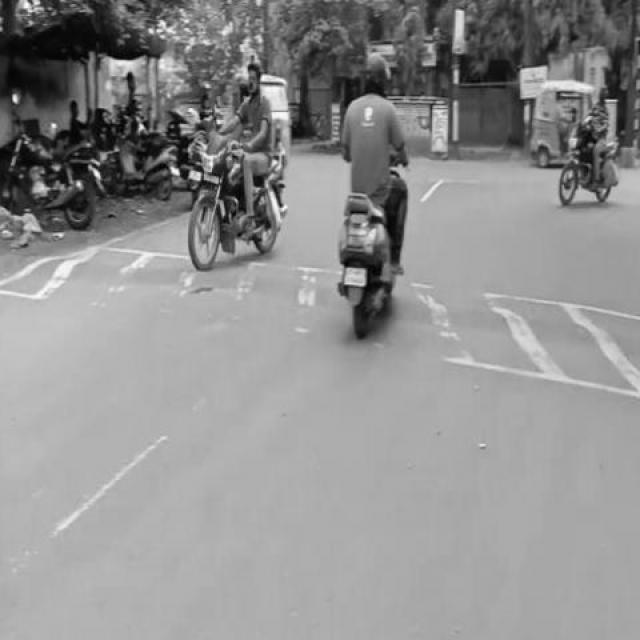Speed Bump: (390, 296, 640, 382), (15, 256, 190, 287), (211, 264, 336, 302)
